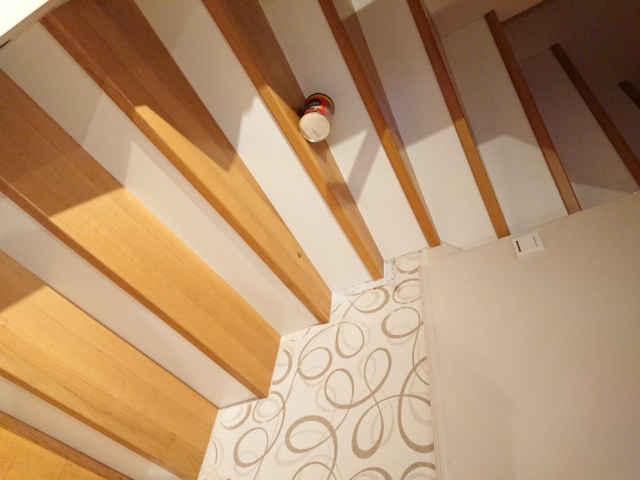Nescafe Classic 225g: (295, 90, 338, 145)
